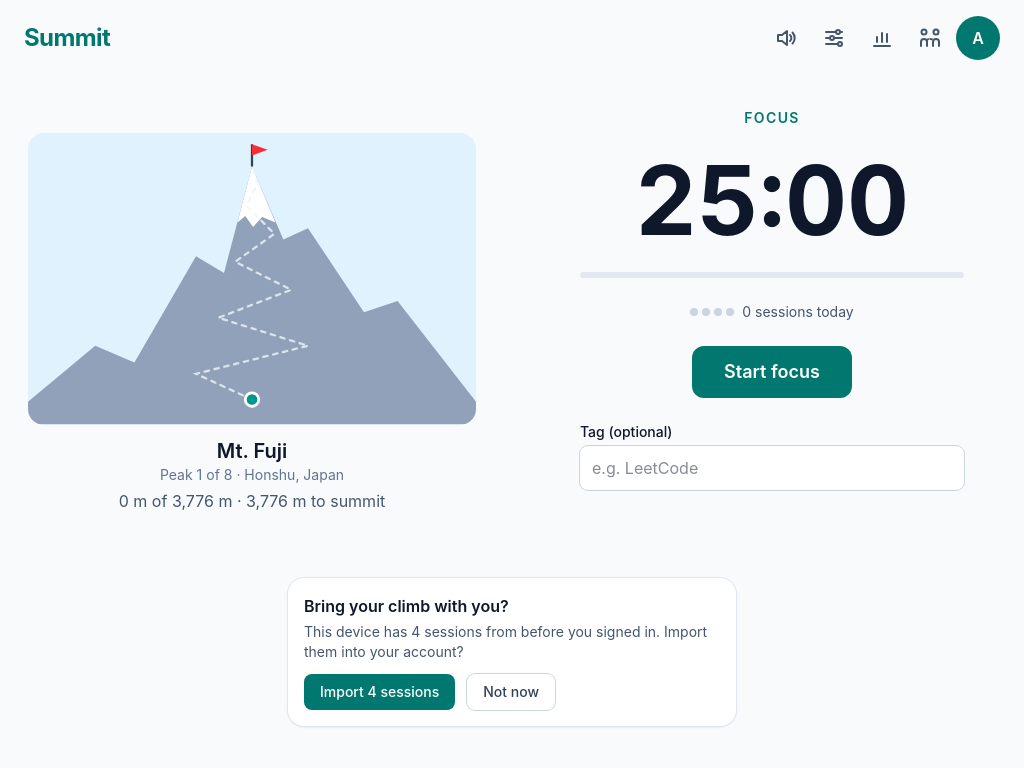
it: importing guest history › explains when the server skipped some sessions
Expected: the picture named "Climber at" is shown, [28,133,476,425]
What coordinates should you click on to do the following:
click the button "Import 4 sessions"
I would click on:
 (380, 692)
Its box is [304,674,455,710].
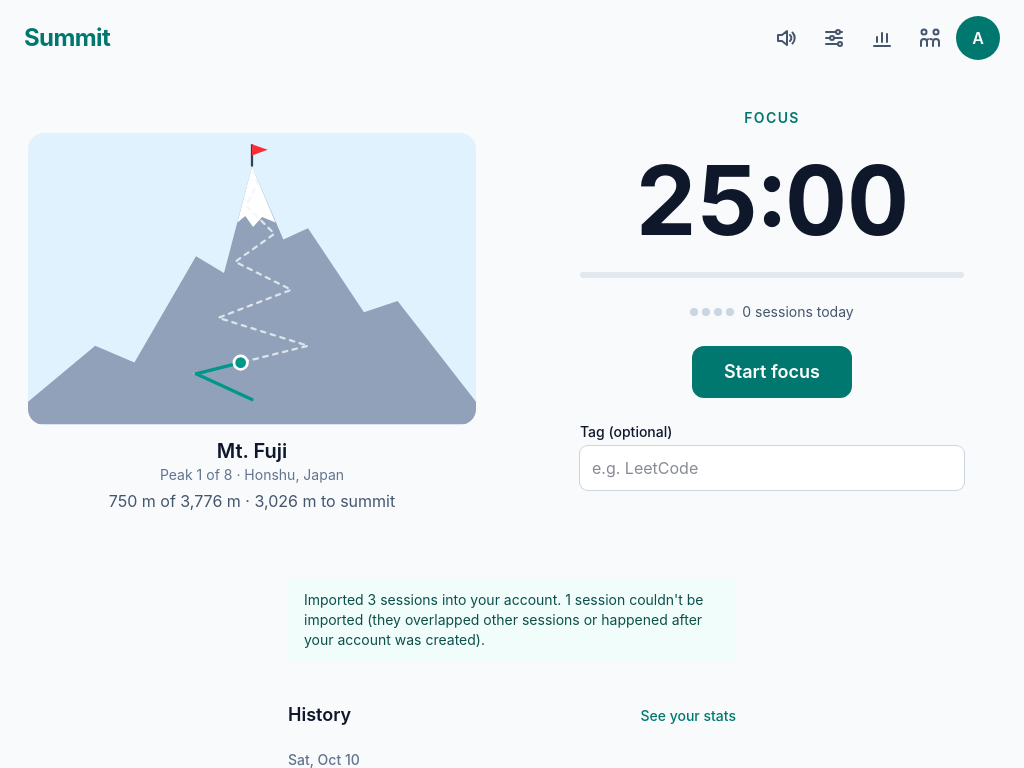
Expected: the text "Imported 3 sessions into your account. 1 session couldn't be imported (they overlapped other sessions or happened after " is shown, [288,578,736,662]
